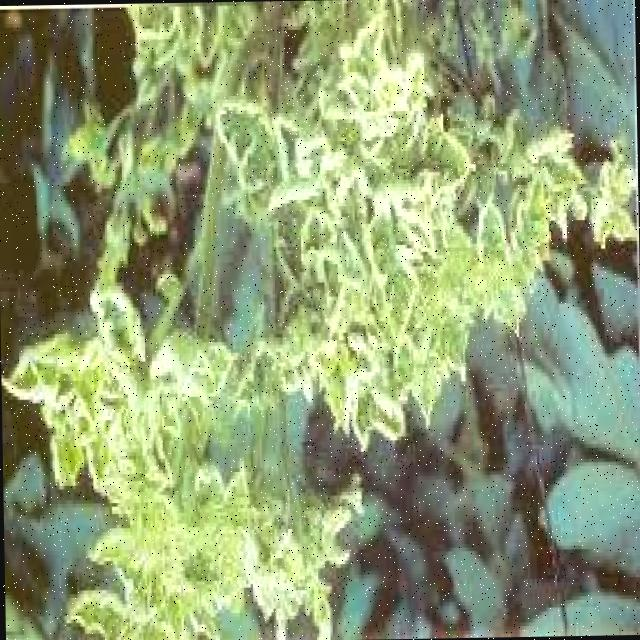leaf curl: (261, 4, 607, 412), (7, 329, 242, 640), (119, 21, 251, 280)
